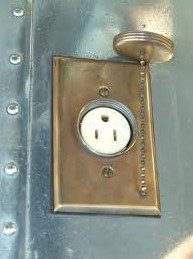outlet: (90, 113, 124, 144)
